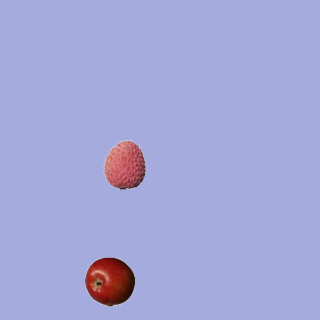Apple Braeburn: (84, 256, 134, 306)
Lychee: (99, 139, 149, 189)
